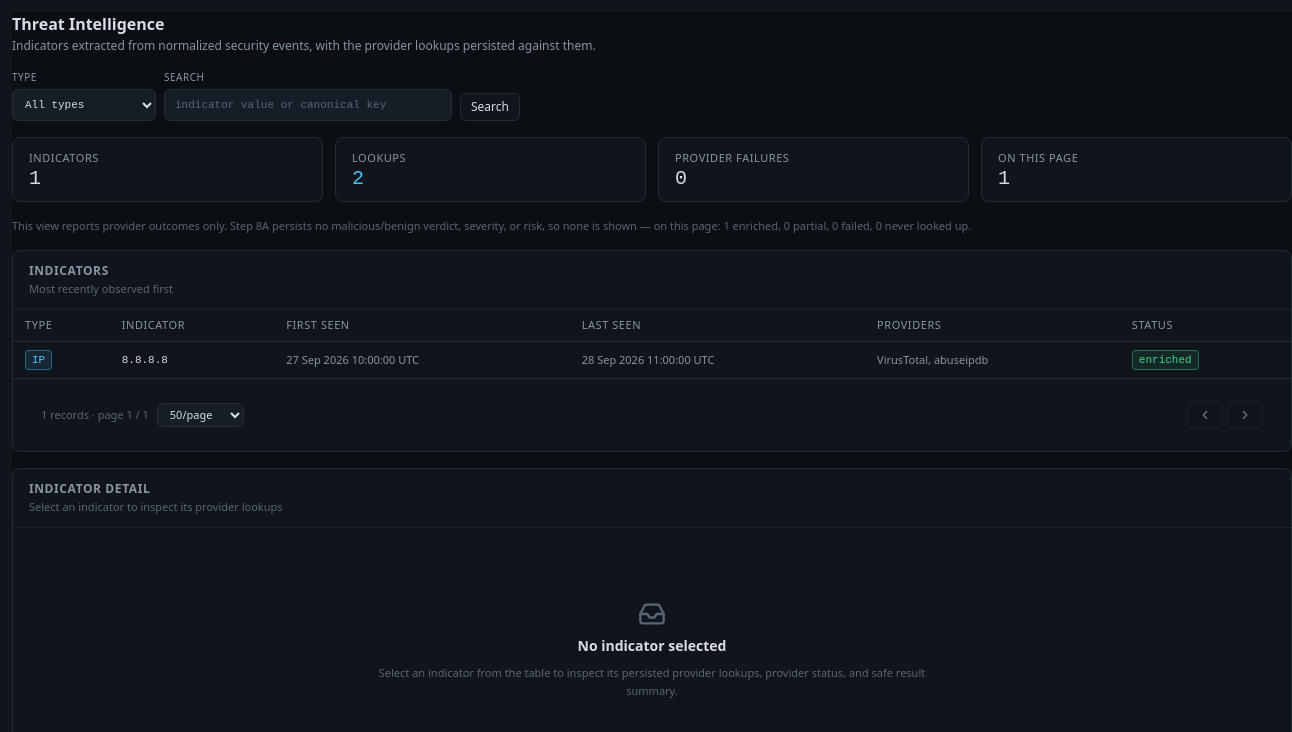
Test: ThreatIntelPage — Step 8A read surface › surfaces a 404 for an indicator the server does not have
Click the row with test id "ti-indicator-row": (652, 360) [13,342,1291,378]
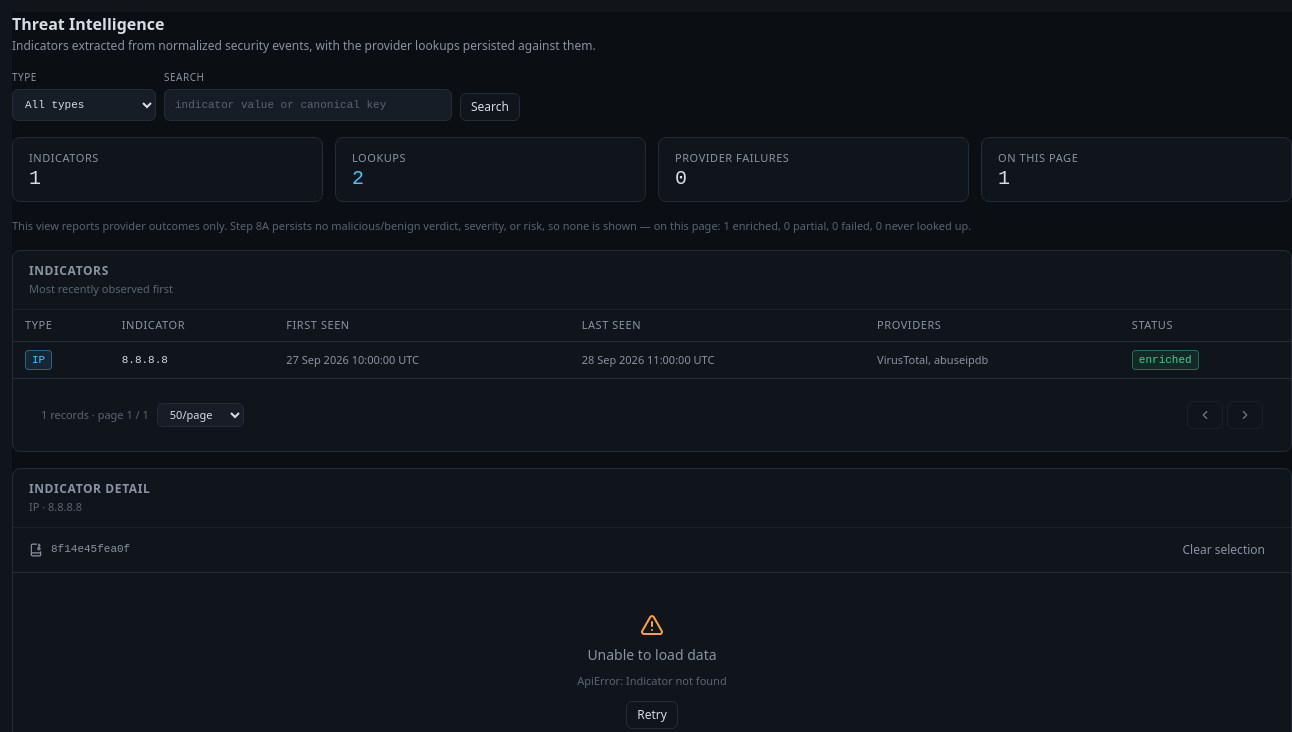
Check: the text "Unable to load data" is shown, box [587,645,717,665]
Check: the text "ApiError: Indicator not found" is shown, box [577,673,727,689]
